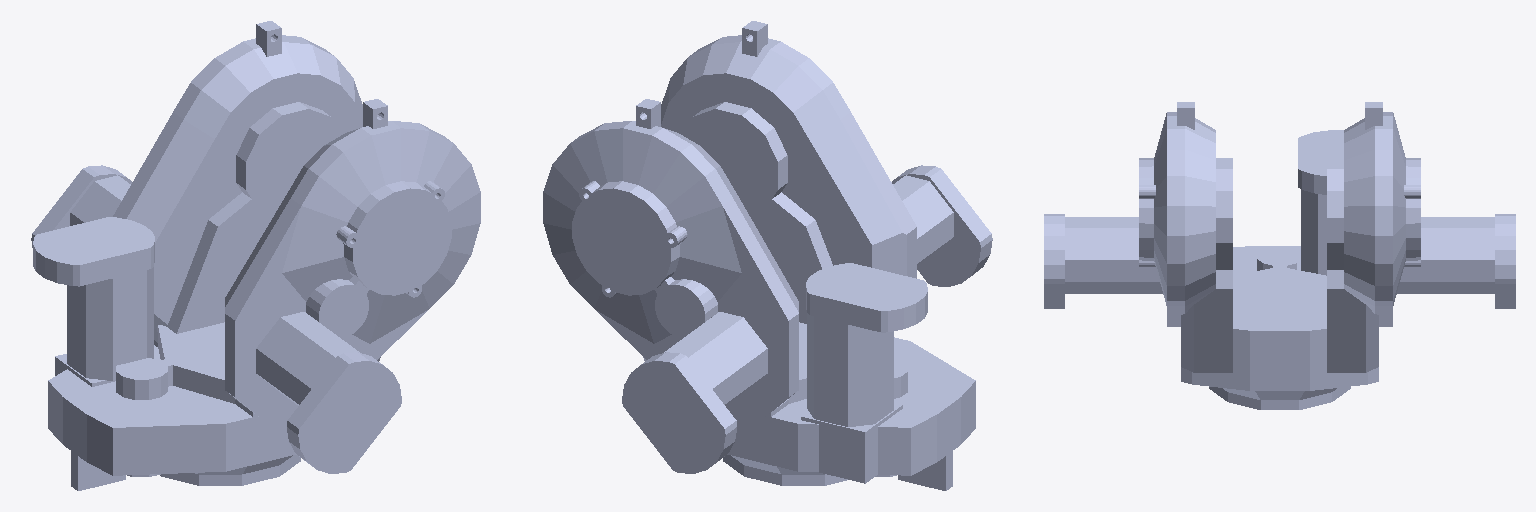
URDF robot description (link1):
<robot
  name="link1">
  <link
    name="link1_fixed_coordinate">
    <inertial>
      <origin
        xyz="0.048532 0.0047642 0.2152"
        rpy="0 0 0" />
      <mass
        value="32.007" />
      <inertia
        ixx="1.06695162498236"
        ixy="0.0263563429413544"
        ixz="-0.227777437748705"
        iyy="0.810219541810416"
        iyz="0.00112484567476821"
        izz="0.977594438459942" />
    </inertial>
    <visual>
      <origin
        xyz="0 0 0"
        rpy="0 0 0" />
      <geometry>
        <mesh
          filename="package://link1_fixed_coordinate/meshes/link1_fixed_coordinate.STL" />
      </geometry>
      <material
        name="">
        <color
          rgba="0.79216 0.81961 0.93333 1" />
      </material>
    </visual>
    <collision>
      <origin
        xyz="0 0 0"
        rpy="0 0 0" />
      <geometry>
        <mesh
          filename="package://link1_fixed_coordinate/meshes/link1_fixed_coordinate.STL" />
      </geometry>
    </collision>
  </link>
</robot>

--- Facts derived from the render (not from the file) ---
3 views of the same robot in one strip: view 1: azimuth 30°, elevation 25°; view 2: azimuth 150°, elevation 25°; view 3: azimuth 270°, elevation 25° (orthographic).
Robot: link1 — 1 links, 0 joints (none); root link link1_fixed_coordinate; default pose: every joint at zero.
Links seen in each view (by area): view 1: link1_fixed_coordinate; view 2: link1_fixed_coordinate; view 3: link1_fixed_coordinate.
Boxes of the visible links, x1,y1,x2,y2 form: link1_fixed_coordinate: (31,21,480,490); link1_fixed_coordinate: (543,21,992,490); link1_fixed_coordinate: (1044,102,1515,409).
Bounding box of the posed robot: 0.508 × 0.682 × 0.5125 m (x, y, z).
Meshes: 1 distinct files referenced, 1 mesh visuals loaded (1 binary STL).